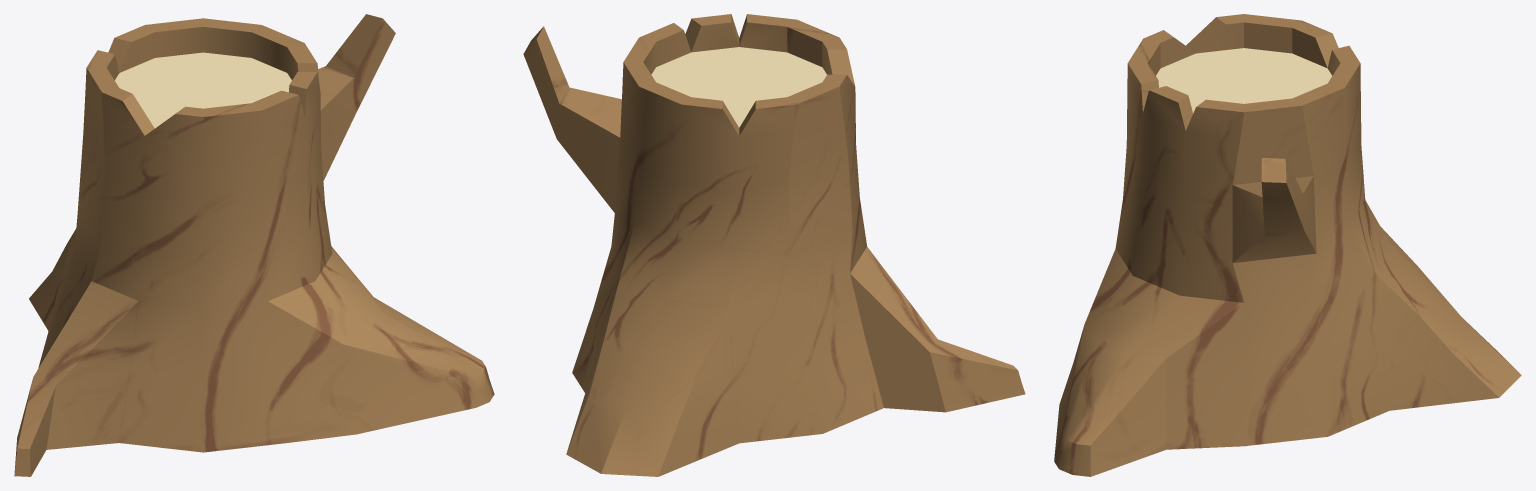
The model's file is Log_FBX.fbx.
3 views of the same model, side by side, from view 1: azimuth 30°, elevation 25°; view 2: azimuth 150°, elevation 25°; view 3: azimuth 270°, elevation 25° (orthographic).
Parts seen in each view (by area): view 1: Cylinder; view 2: Cylinder; view 3: Cylinder.
Boxes of the visible parts, <box> form: Cylinder: <box>14,14,494,476</box>; Cylinder: <box>523,14,1025,476</box>; Cylinder: <box>1054,14,1521,476</box>.
Bounding box in the file's own units: 0.7587 × 0.6888 × 0.5072.
2 materials, 1 textured.
